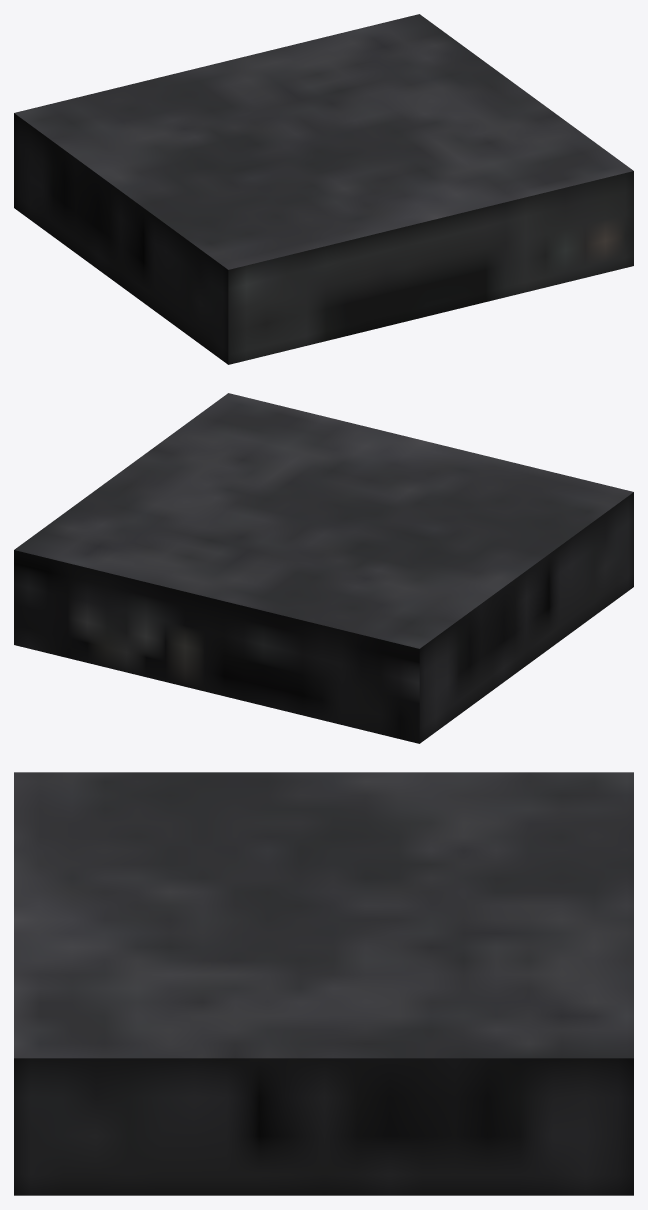
The model's file is SM_EC_VCR_1.fbx.
The picture shows the model from 3 angles, top to bottom: view 1: azimuth 30°, elevation 25°; view 2: azimuth 150°, elevation 25°; view 3: azimuth 270°, elevation 25°; orthographic projection. The views are drawn at different scales.
Parts seen in each view (by area): view 1: SM_EC_VCR_1; view 2: SM_EC_VCR_1; view 3: SM_EC_VCR_1.
Part boxes in pixels (box(x1,y1,x2,y2)): SM_EC_VCR_1: box(14, 14, 633, 364); SM_EC_VCR_1: box(14, 393, 633, 743); SM_EC_VCR_1: box(14, 772, 633, 1195).
Size of the model in its own units: 0.6483 by 0.5937 by 0.1451.
